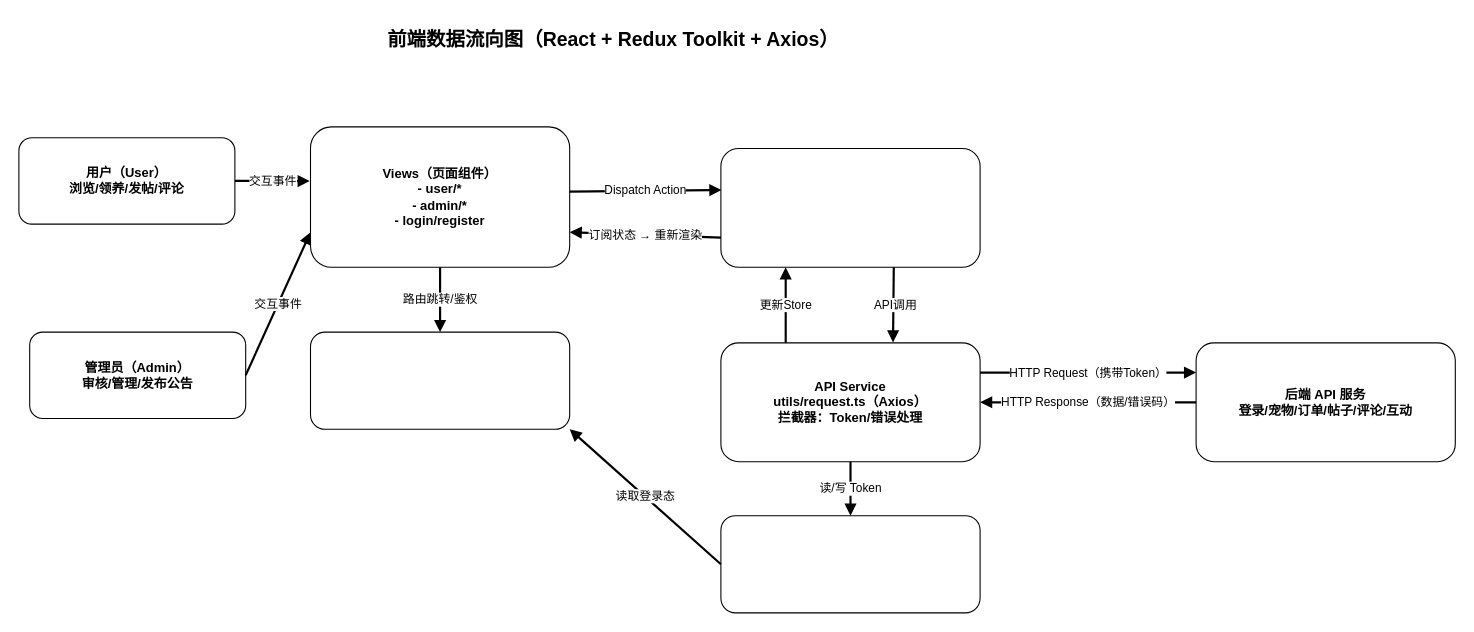
Image size: 1474x632. Some labels were removed from this diagram. The centre of each missing label's shape, as x and y in pixels:
"Browser Storage utils/storage.ts - localStorage（Token/用户信息）" goes at (x=850, y=564).
"Redux Store（RTK） - userSlice - petSlice" goes at (x=850, y=207).
"Router（React Router） 路由守卫：登录态/角色" goes at (x=439, y=380).
